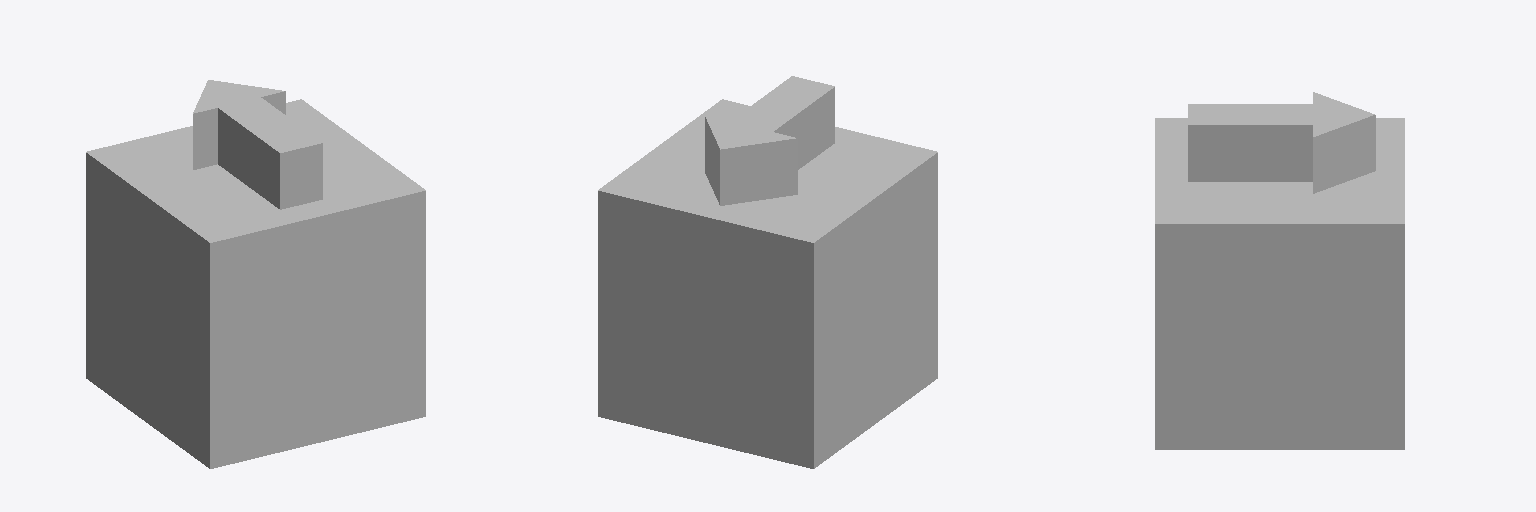
Rendered from Arrow_cube_cap.obj.
3 views of the same model, side by side, from view 1: azimuth 30°, elevation 25°; view 2: azimuth 150°, elevation 25°; view 3: azimuth 270°, elevation 25° (orthographic).
Parts seen in each view (by area): view 1: Cap.001_Cube.004; view 2: Cap.001_Cube.004; view 3: Cap.001_Cube.004.
Part boxes in pixels (x1,y1,x2,y2): Cap.001_Cube.004: (86, 80, 425, 468); Cap.001_Cube.004: (598, 76, 937, 468); Cap.001_Cube.004: (1155, 92, 1404, 449).
Size of the model in its own units: 0.08 by 0.1 by 0.08.